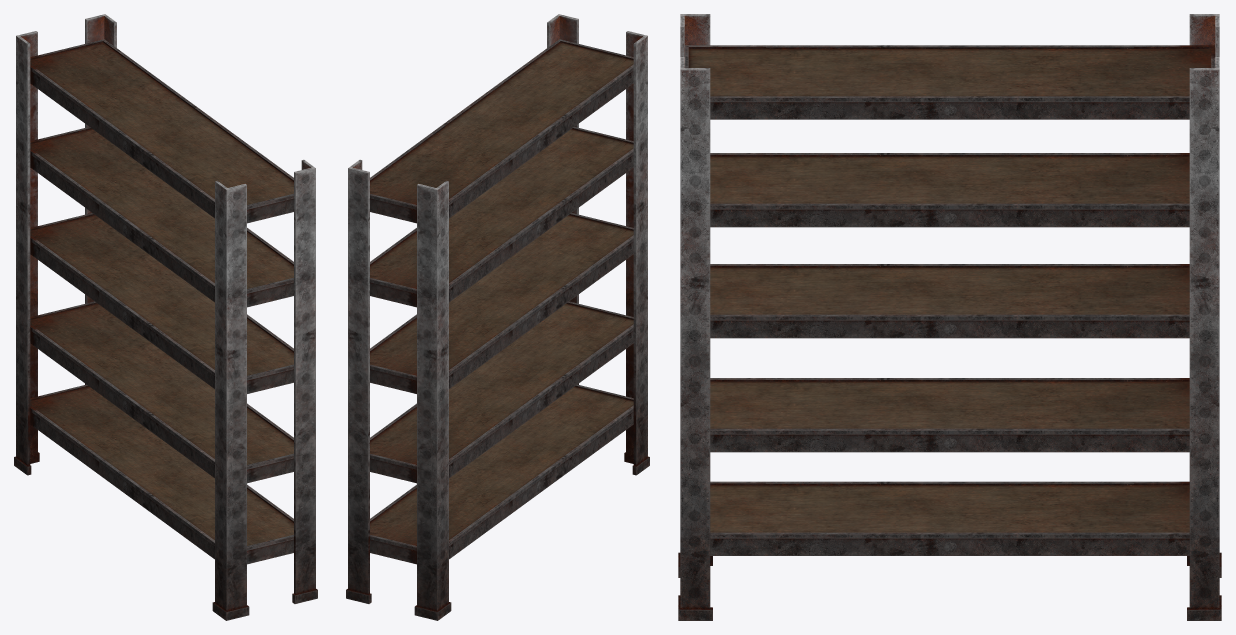
File: regal_01.fbx
The picture shows the model from 3 angles, left to right: view 1: azimuth 30°, elevation 25°; view 2: azimuth 150°, elevation 25°; view 3: azimuth 270°, elevation 25°; orthographic projection. The views are drawn at different scales.
Parts seen in each view (by area): view 1: polka.001; view 2: polka.001; view 3: polka.001.
Boxes of the visible parts, box(x1,y1,x2,y2) form: polka.001: box(14, 14, 317, 620); polka.001: box(346, 14, 649, 620); polka.001: box(678, 14, 1221, 620).
Size of the model in its own units: 0.8865 by 3.97 by 3.55.
